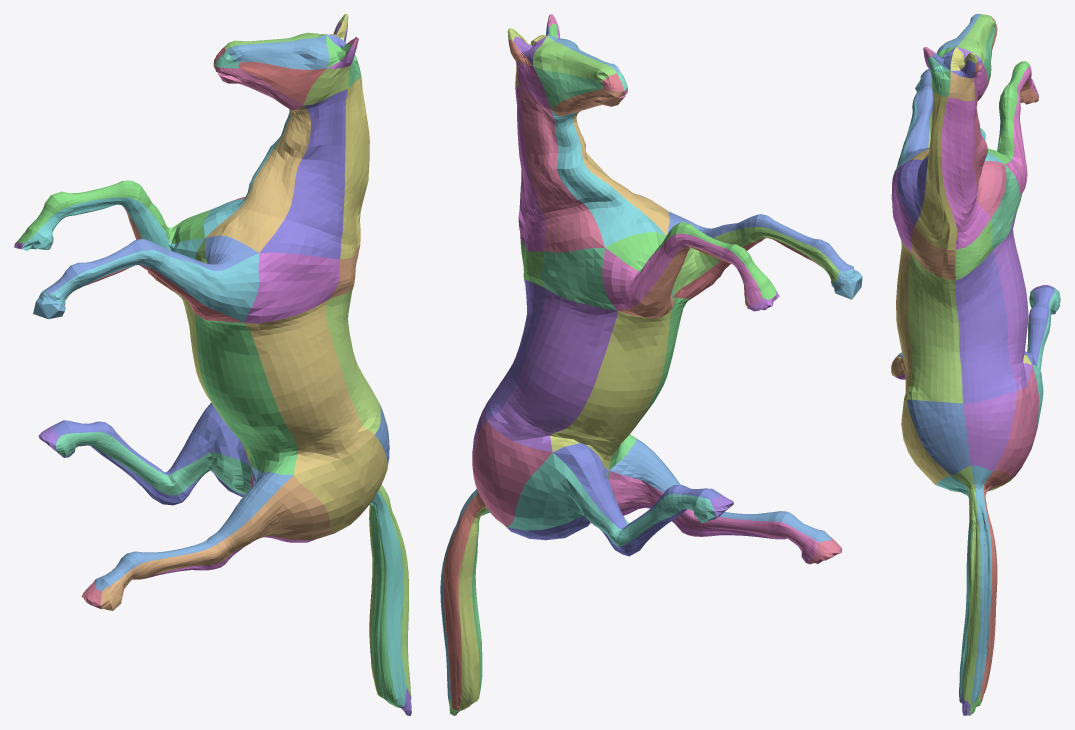
The model's file is horse02_output.obj.
3 renders of one model, left to right at view 1: azimuth 30°, elevation 25°; view 2: azimuth 150°, elevation 25°; view 3: azimuth 270°, elevation 25°, orthographic. The views are drawn at different scales.
Size of the model in its own units: 0.7505 by 1.29 by 0.3109.
